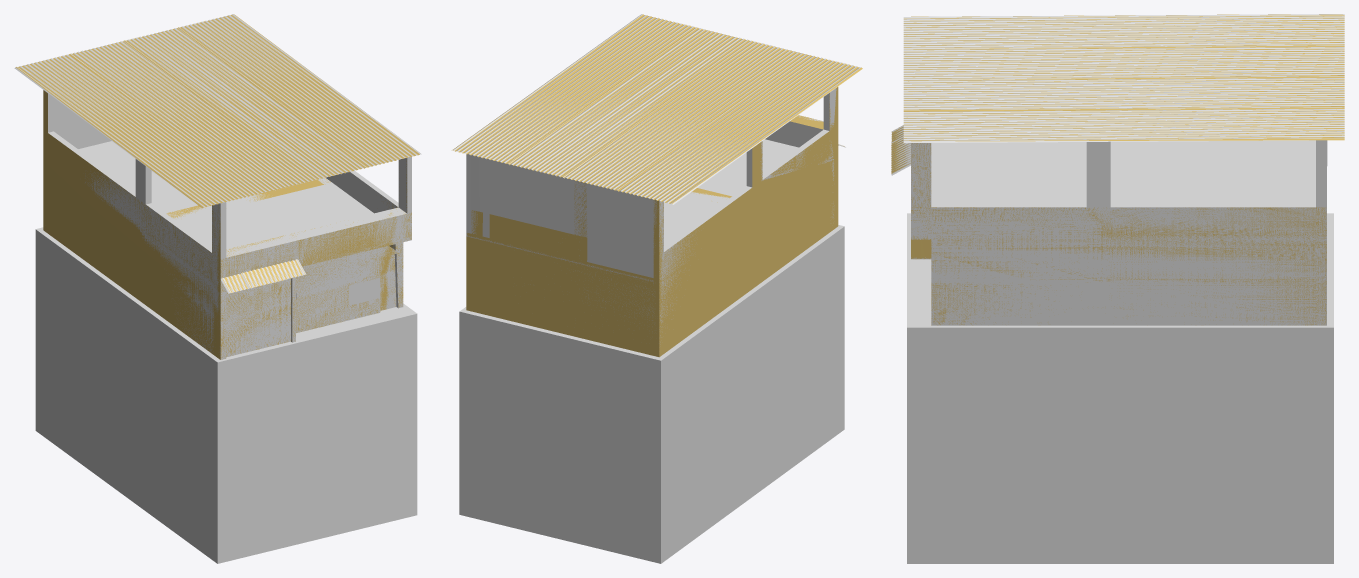
Rendered from CASA7.fbx.
3 renders of one model, left to right at view 1: azimuth 30°, elevation 25°; view 2: azimuth 150°, elevation 25°; view 3: azimuth 270°, elevation 25°, orthographic. The views are drawn at different scales.
Visible parts, largest first — view 1: CUBE_LOD0, CASA7_LOD0, UTM_CASA7; view 2: CUBE_LOD0, UTM_CASA7, CASA7_LOD0; view 3: CASA7_LOD0, CUBE_LOD0, UTM_CASA7.
Boxes of the visible parts, <box> form: CUBE_LOD0: <box>35,227,417,563</box>; CASA7_LOD0: <box>14,14,421,359</box>; UTM_CASA7: <box>16,14,419,359</box>; CUBE_LOD0: <box>459,225,844,563</box>; UTM_CASA7: <box>452,14,862,357</box>; CASA7_LOD0: <box>453,14,860,344</box>; CASA7_LOD0: <box>891,14,1344,325</box>; CUBE_LOD0: <box>907,213,1333,563</box>; UTM_CASA7: <box>891,14,1344,325</box>.
Size of what is drawn, in the model's own units: 1037 by 1640 by 1578.
